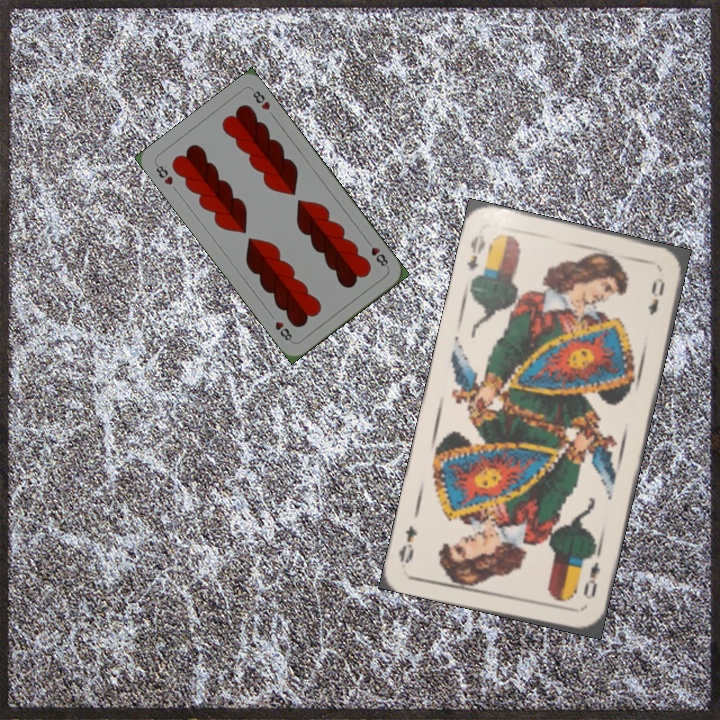EO: (462, 230, 488, 272), (579, 558, 602, 602)
H8: (362, 236, 391, 271), (151, 159, 176, 188)
